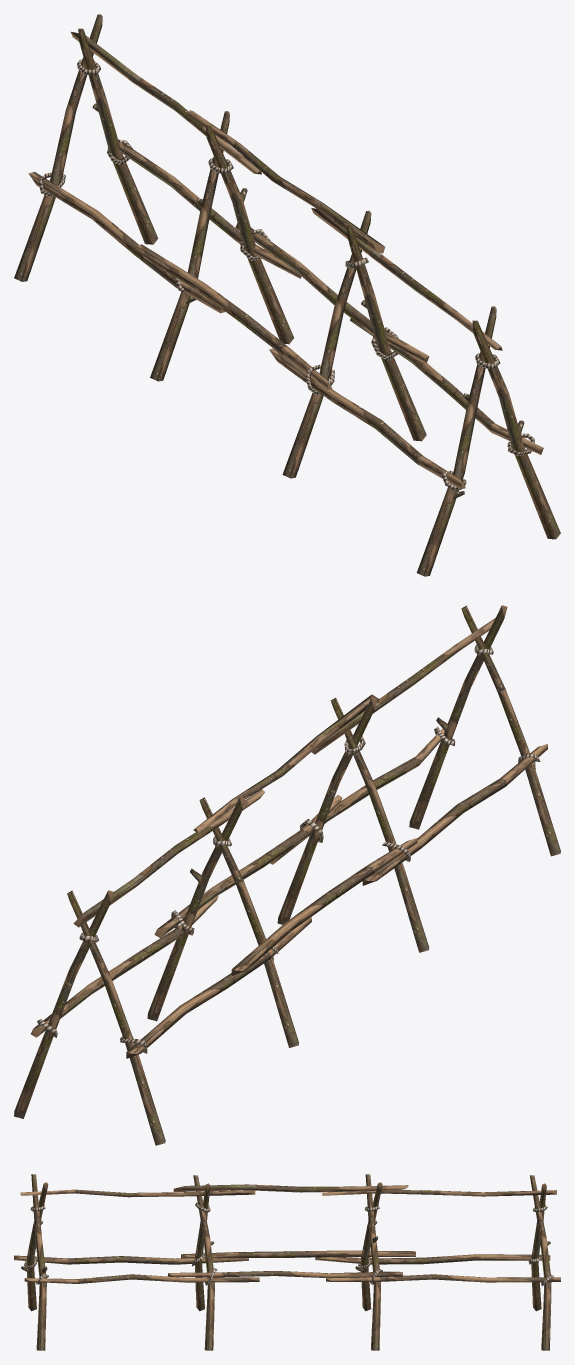
File: trellis03.fbx
The picture shows the model from 3 angles, top to bottom: view 1: azimuth 30°, elevation 25°; view 2: azimuth 150°, elevation 25°; view 3: azimuth 270°, elevation 25°; orthographic projection. The views are drawn at different scales.
Visible parts, largest first — view 1: trellis03; view 2: trellis03; view 3: trellis03.
Boxes of the visible parts, bbox=[...] form: trellis03: bbox=[14, 14, 560, 576]; trellis03: bbox=[14, 605, 560, 1145]; trellis03: bbox=[14, 1174, 560, 1350].
Bounding box in the file's own units: 108 × 168 × 550.
